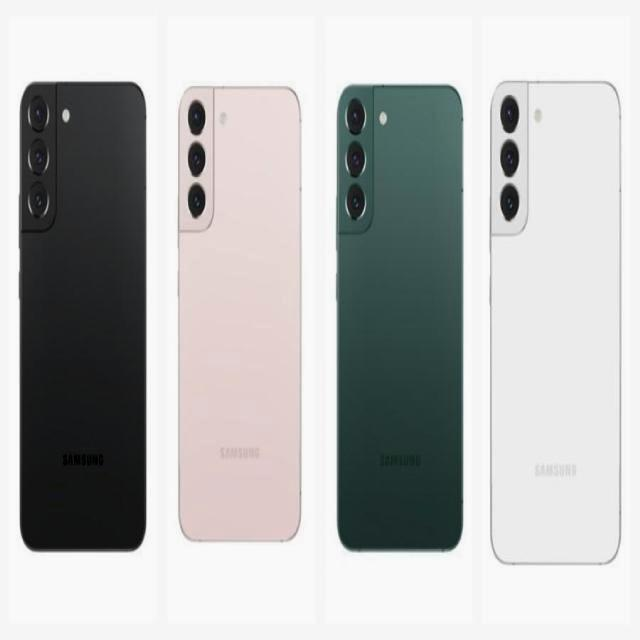phone: (489, 79, 622, 569), (335, 81, 467, 561), (19, 78, 150, 560), (179, 82, 303, 546)
